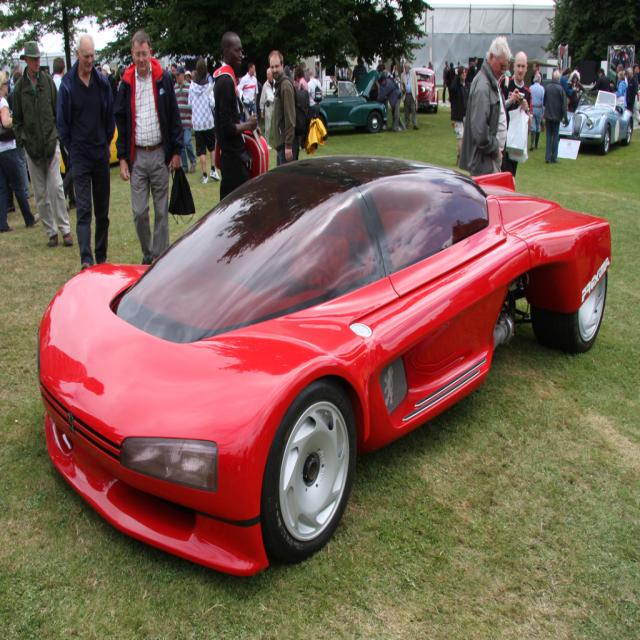car: (35, 153, 610, 575)
